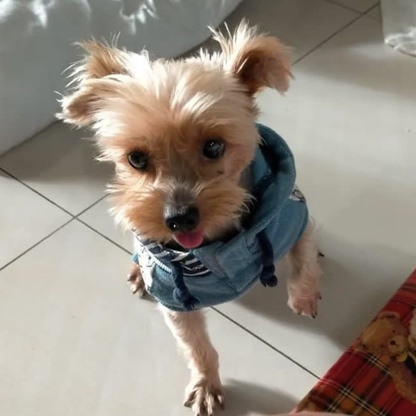yorkshire: (51, 20, 325, 416)
